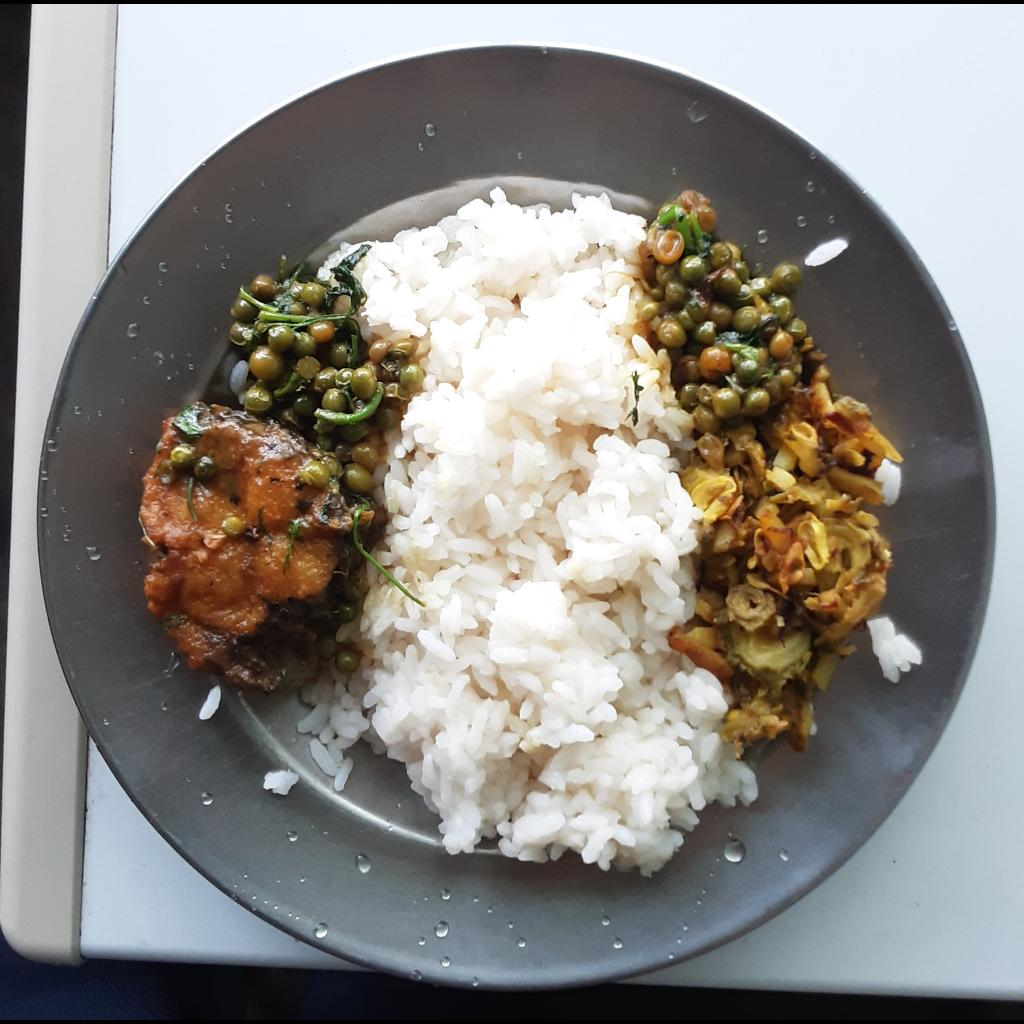fish: (135, 404, 376, 700)
green-pea: (223, 238, 428, 506), (638, 178, 810, 419)
korola-vaji: (661, 344, 903, 754)
rice: (258, 189, 758, 882)
